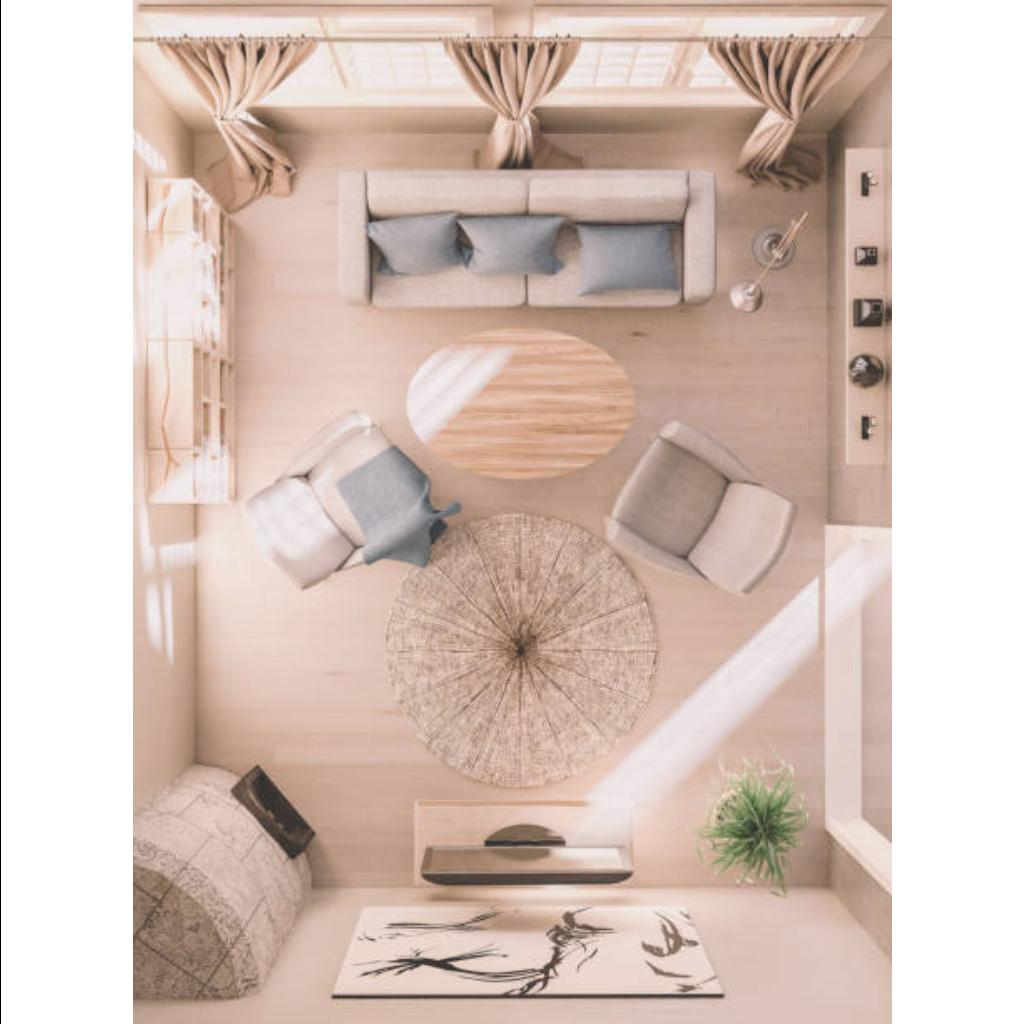TV stand: (409, 804, 635, 904)
bookshelf: (144, 177, 230, 501)
chair: (644, 422, 796, 596), (244, 420, 392, 592)
coffee table: (408, 332, 624, 474)
fireplace: (165, 760, 313, 908)
floor lamp: (730, 276, 766, 312)
floor plant: (714, 788, 786, 872)
rug: (380, 510, 660, 784)
sideboard: (829, 148, 887, 468)
sofa: (338, 173, 714, 307)
window: (700, 12, 878, 32), (146, 16, 316, 34), (321, 15, 473, 35), (534, 14, 698, 32)
